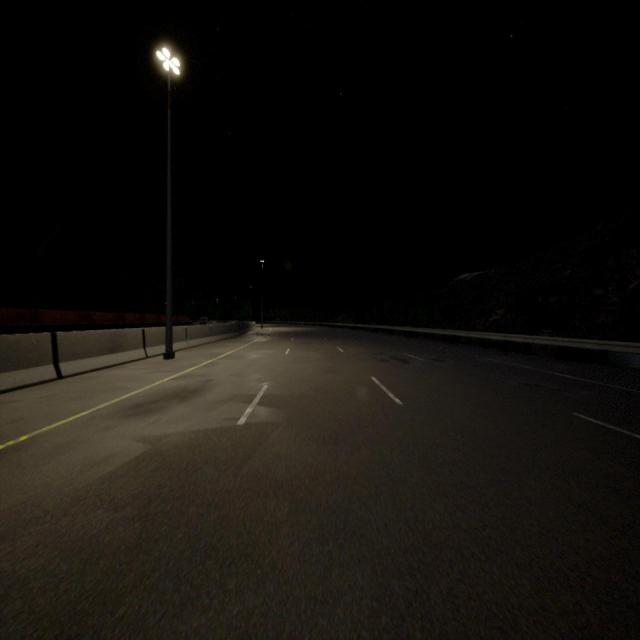Vehicle: (200, 317, 208, 324)
